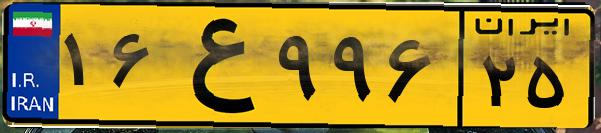1: (57, 26, 110, 100)
2: (475, 38, 525, 113)
5: (525, 38, 570, 115)
6: (385, 28, 445, 110), (110, 28, 158, 98)
9: (270, 28, 330, 110), (330, 28, 385, 110)
ع: (158, 12, 270, 120)
